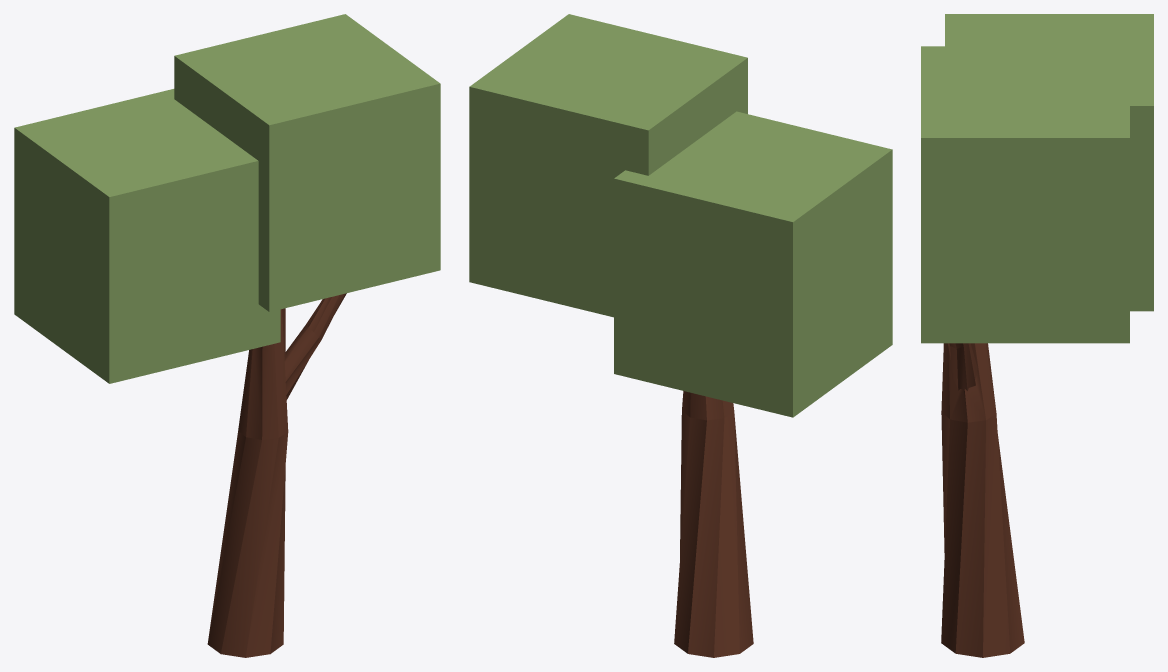
Rendered from preTree2.fbx.
3 renders of one model, left to right at view 1: azimuth 30°, elevation 25°; view 2: azimuth 150°, elevation 25°; view 3: azimuth 270°, elevation 25°, orthographic. The views are drawn at different scales.
Visible parts, largest first — view 1: Model; view 2: Model; view 3: Model.
Part boxes in pixels (<box>): Model: <box>14,14,440,657</box>; Model: <box>469,14,892,657</box>; Model: <box>921,14,1153,657</box>.
Bounding box in the file's own units: 861 × 1382 × 493.
